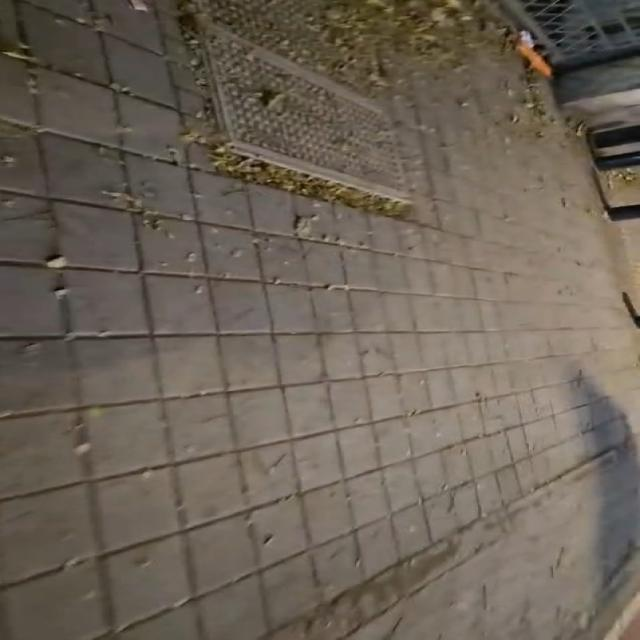vehicle: (197, 16, 430, 217)
